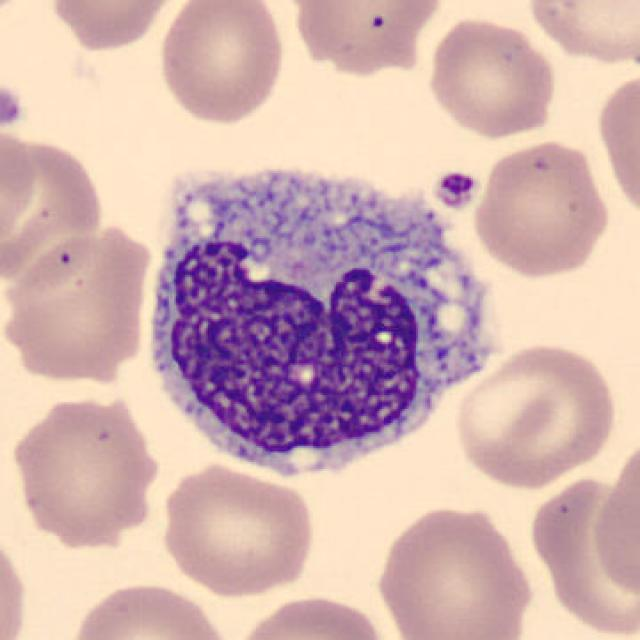Monocyte: (121, 150, 510, 495)
Platelets: (432, 168, 482, 212), (0, 83, 28, 134)
RBC: (450, 338, 622, 492), (5, 390, 164, 550), (0, 220, 155, 384), (371, 500, 538, 640), (155, 460, 318, 600), (469, 136, 614, 280), (524, 467, 636, 638), (0, 126, 108, 294), (423, 12, 560, 141), (155, 0, 288, 127), (288, 0, 450, 76), (64, 578, 236, 640), (588, 428, 640, 612), (229, 590, 392, 640), (523, 0, 638, 69), (592, 65, 640, 226), (44, 0, 185, 51), (0, 122, 39, 259), (0, 522, 30, 640)
